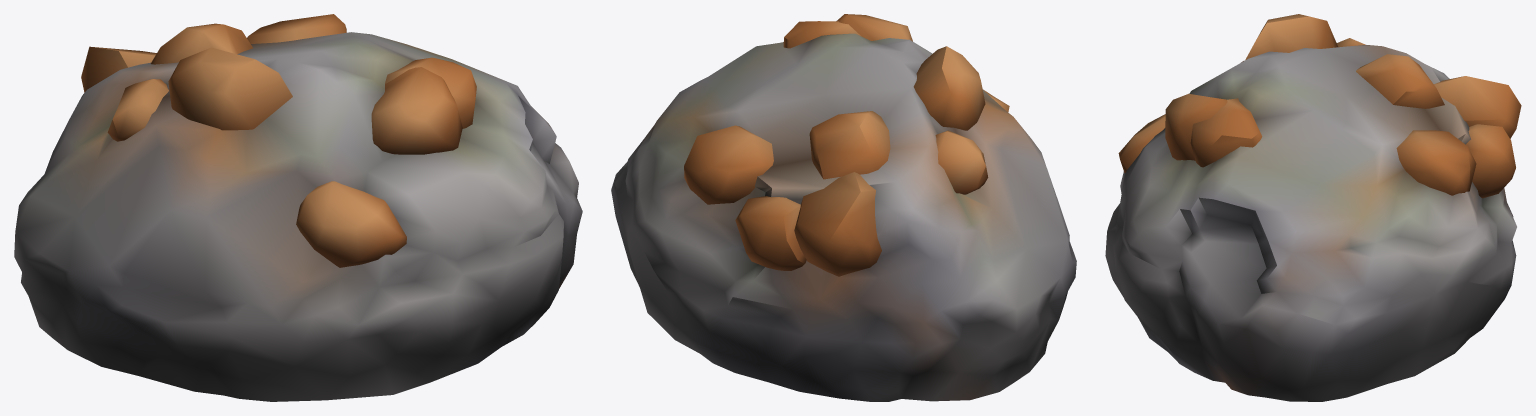
Rendered from node-copperVein-v2.glb.
3 renders of one model, left to right at view 1: azimuth 30°, elevation 25°; view 2: azimuth 150°, elevation 25°; view 3: azimuth 270°, elevation 25°, orthographic. The views are drawn at different scales.
Parts seen in each view (by area): view 1: 0_vein; view 2: 0_vein; view 3: 0_vein.
Part boxes in pixels (left/top/right/bottom): 0_vein: left=14, top=14, right=582, bottom=401; 0_vein: left=611, top=14, right=1076, bottom=401; 0_vein: left=1105, top=14, right=1521, bottom=401.
Size of the model in its own units: 2.17 by 1.22 by 1.84.
